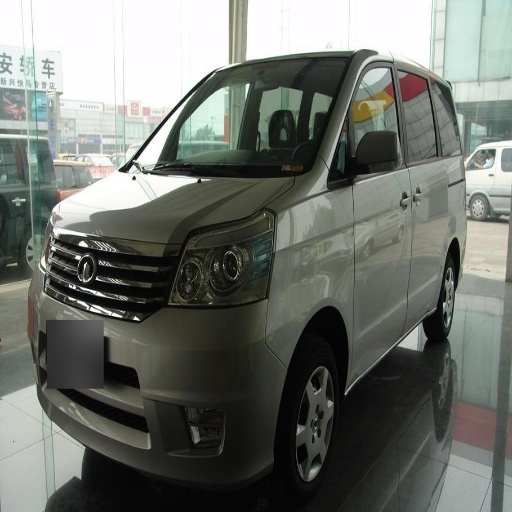front_bumper: (36, 228, 299, 475)
front_glass: (120, 56, 352, 177)
front_left_door: (327, 59, 409, 367)
